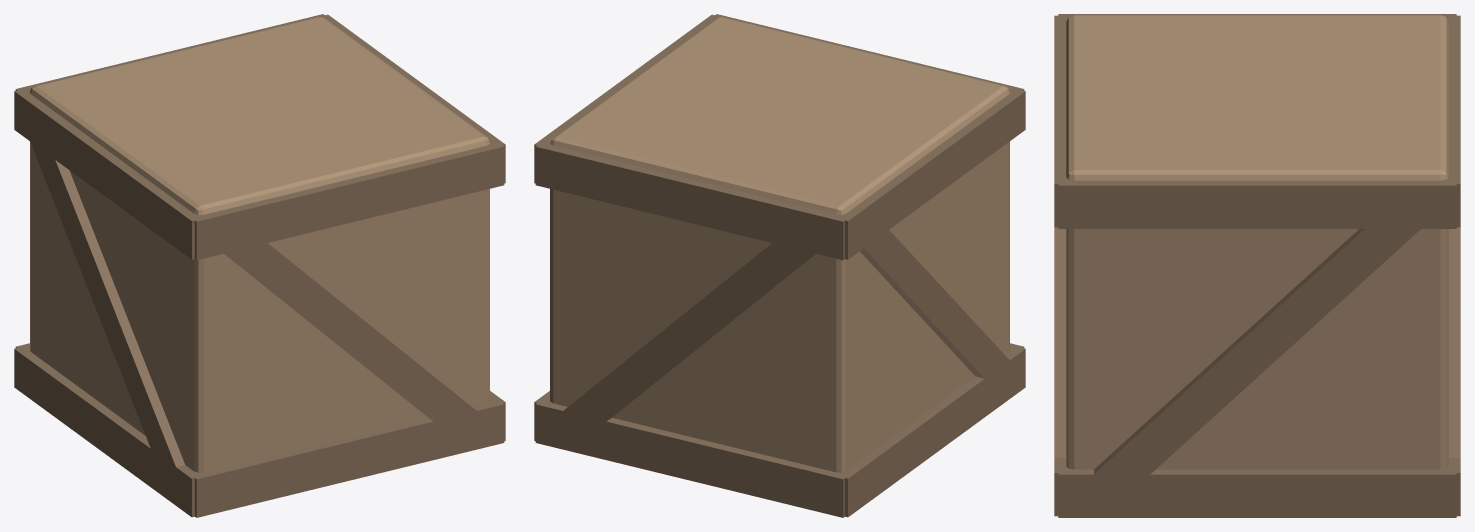
Rendered from crate.glb.
3 views of the same model, side by side, from view 1: azimuth 30°, elevation 25°; view 2: azimuth 150°, elevation 25°; view 3: azimuth 270°, elevation 25° (orthographic). The views are drawn at different scales.
Visible parts, largest first — view 1: crate; view 2: crate; view 3: crate.
Boxes of the visible parts, x1,y1,x2,y2 form: crate: (14, 14, 505, 517); crate: (534, 14, 1025, 517); crate: (1054, 14, 1460, 517).
Size of the model in its own units: 1.02 by 0.96 by 1.02.
